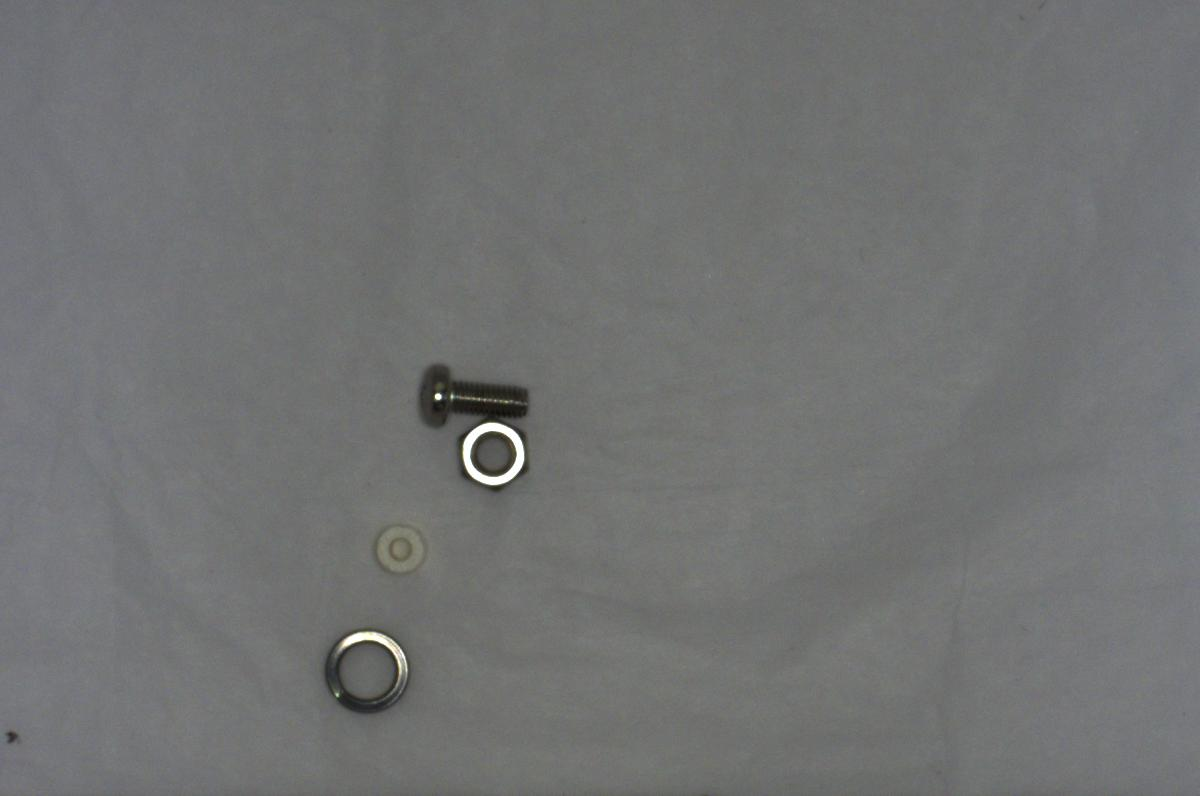Hexagon nut: (446, 415, 535, 496)
Plastic cushion pillar: (370, 512, 437, 575)
Round head screw: (407, 361, 530, 426)
Spring washer: (319, 622, 415, 720)
